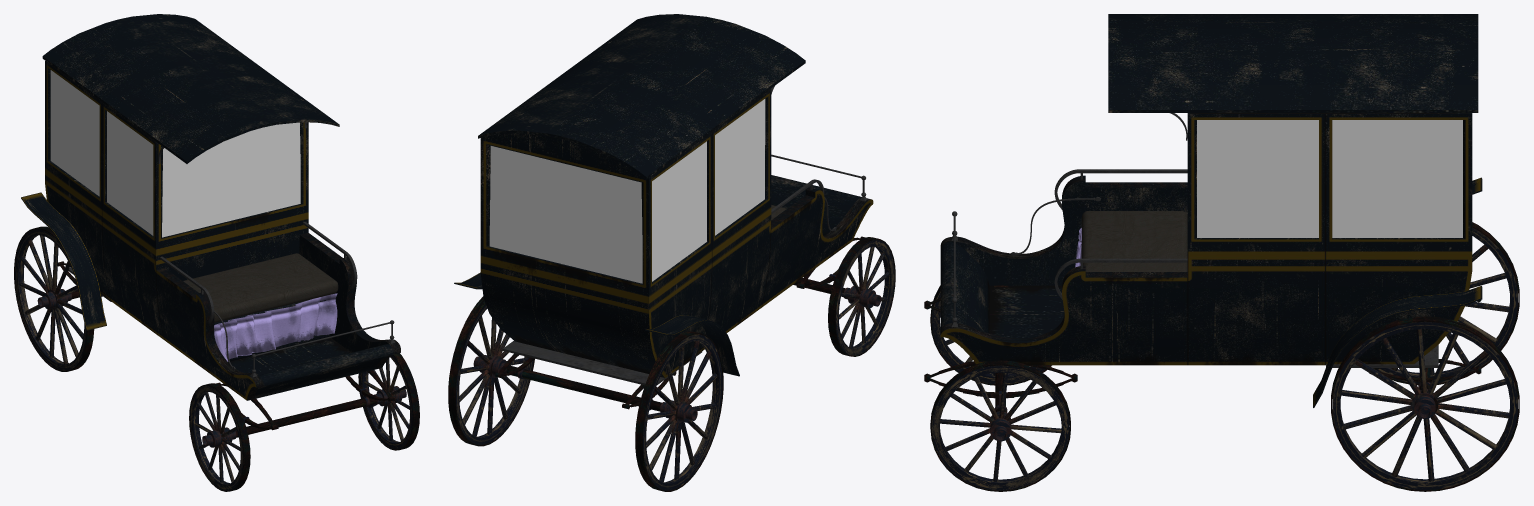
The model's file is Carriage-for-sketchfab2.fbx.
3 views of the same model, side by side, from view 1: azimuth 30°, elevation 25°; view 2: azimuth 150°, elevation 25°; view 3: azimuth 270°, elevation 25° (orthographic). The views are drawn at different scales.
Visible parts, largest first — view 1: Rairings_1; view 2: Rairings_1; view 3: Rairings_1.
Part boxes in pixels (x1=…): Rairings_1: x1=14, y1=14, x2=419, y2=491; Rairings_1: x1=448, y1=14, x2=895, y2=491; Rairings_1: x1=924, y1=14, x2=1519, y2=491.
Bounding box in the file's own units: 111 × 166 × 224.
Materials: 7 (6 with a texture image).
